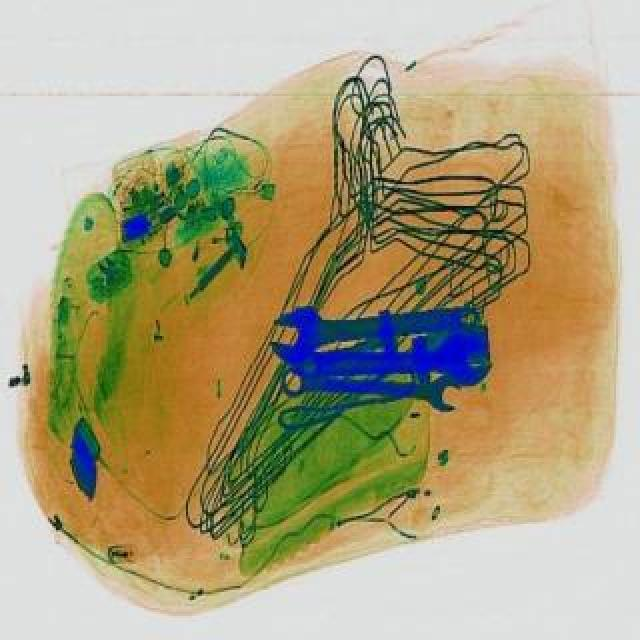scissors: (266, 290, 482, 370), (300, 328, 490, 388), (278, 354, 458, 410)
